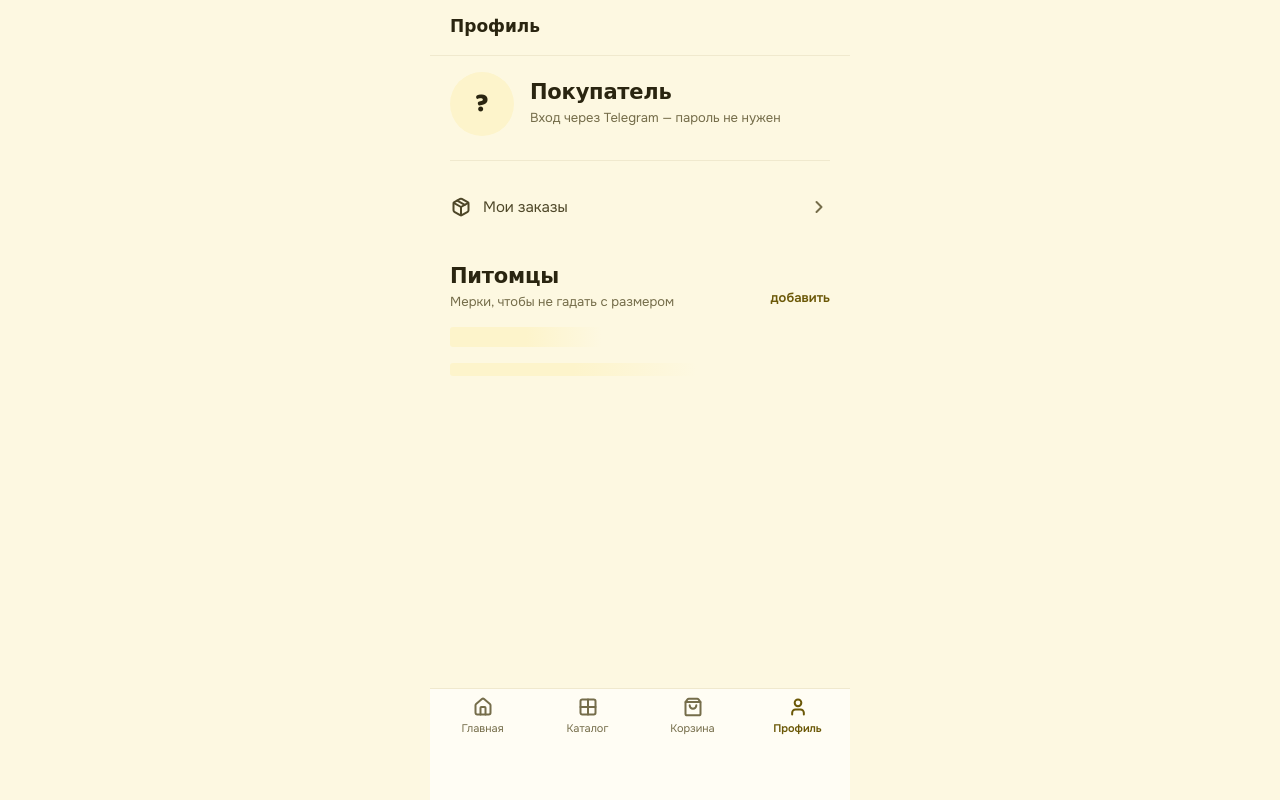
ProfileScreen — новая карточка › на отказ по мерке показывает текст сервера
Click the button "добавить" at (800, 298), box [771,284,830,311]
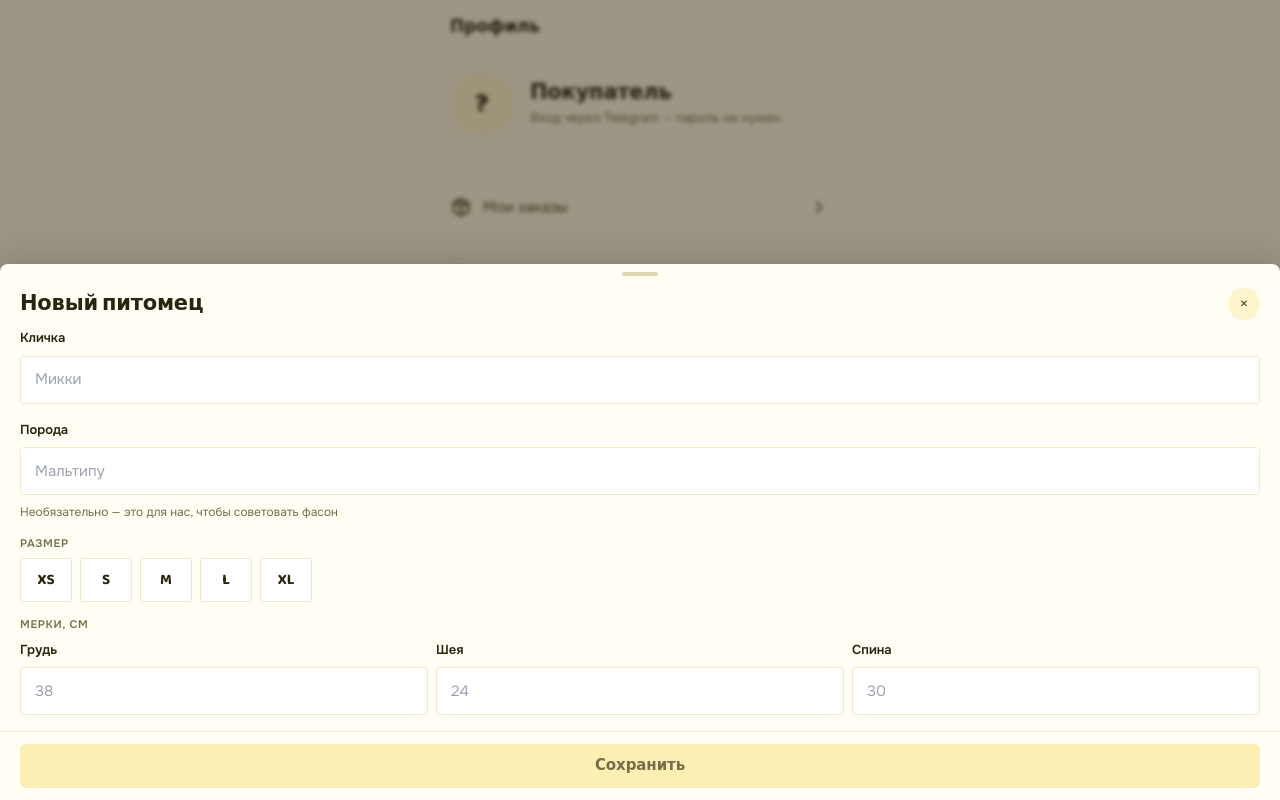
Type "Соня" into the field labelled "Кличка" at (640, 380), box [35,368,1245,391]
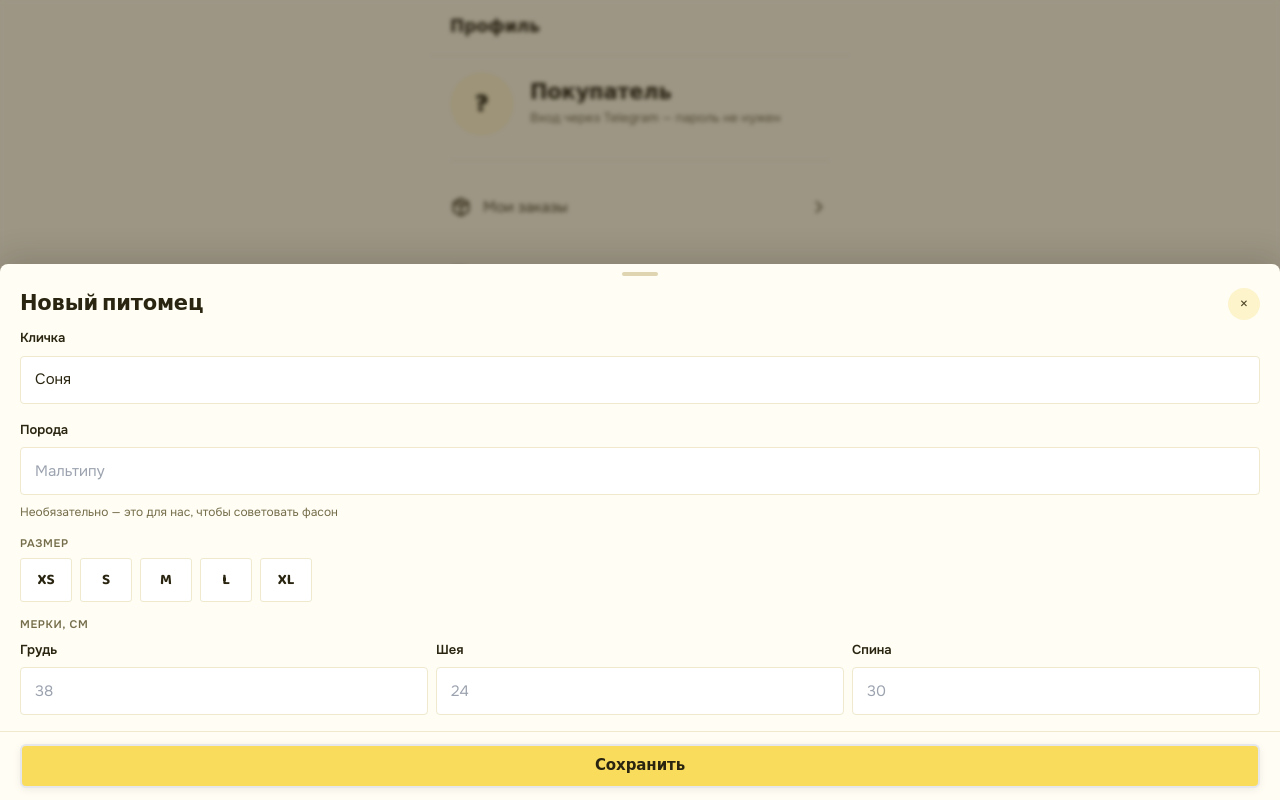
Click the button "Сохранить" at (640, 766), box [20,744,1260,788]
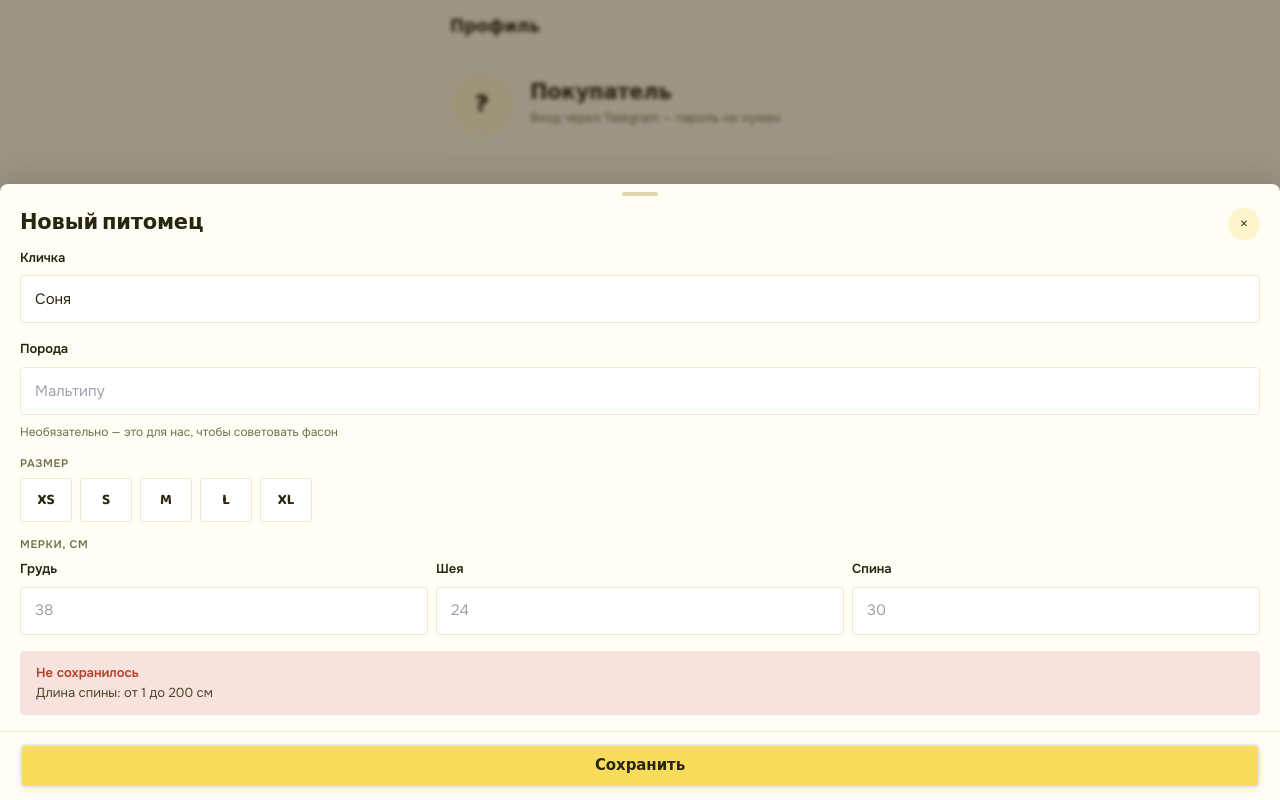
Expected: the text "Длина спины: от 1 до 200 см" is shown, [36,684,213,703]
